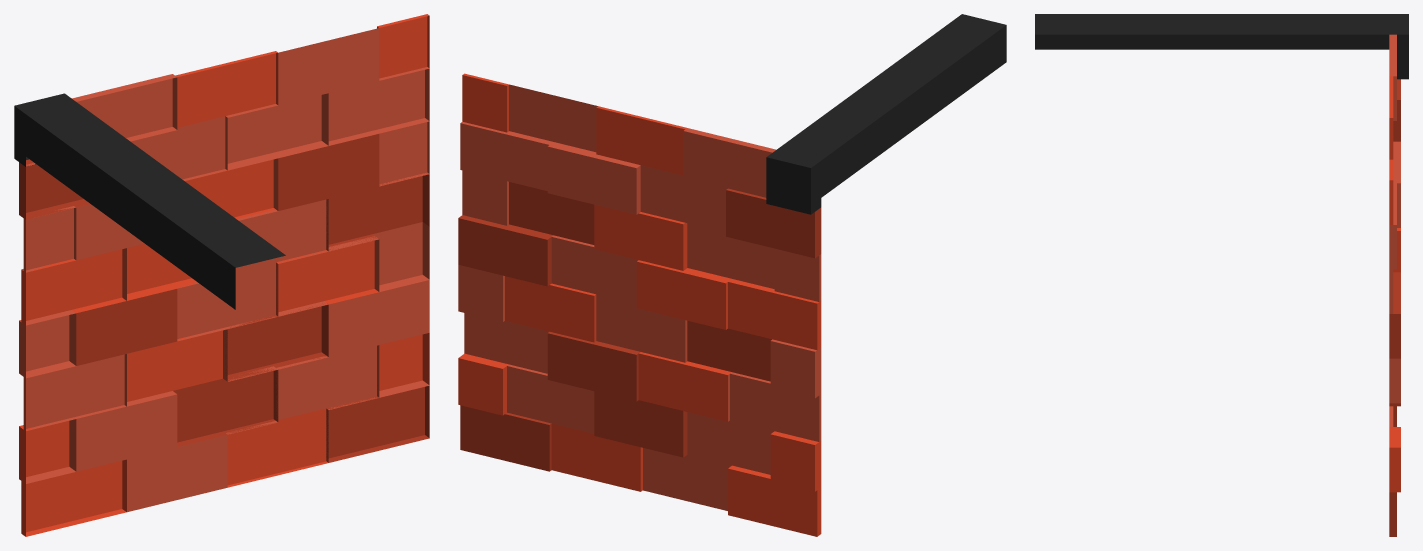
Rendered from Straight_Edge_Wall_Roof_Right.obj.
3 renders of one model, left to right at view 1: azimuth 30°, elevation 25°; view 2: azimuth 150°, elevation 25°; view 3: azimuth 270°, elevation 25°, orthographic. The views are drawn at different scales.
Visible parts, largest first — view 1: Straight_Edge_Wall_Roof_Right; view 2: Straight_Edge_Wall_Roof_Right; view 3: Straight_Edge_Wall_Roof_Right.
Part boxes in pixels (box(x1,y1,x2,y2)): Straight_Edge_Wall_Roof_Right: box(14, 14, 429, 536); Straight_Edge_Wall_Roof_Right: box(458, 14, 1006, 536); Straight_Edge_Wall_Roof_Right: box(1035, 14, 1408, 536).
Bounding box in the file's own units: 1 × 1 × 0.95.
